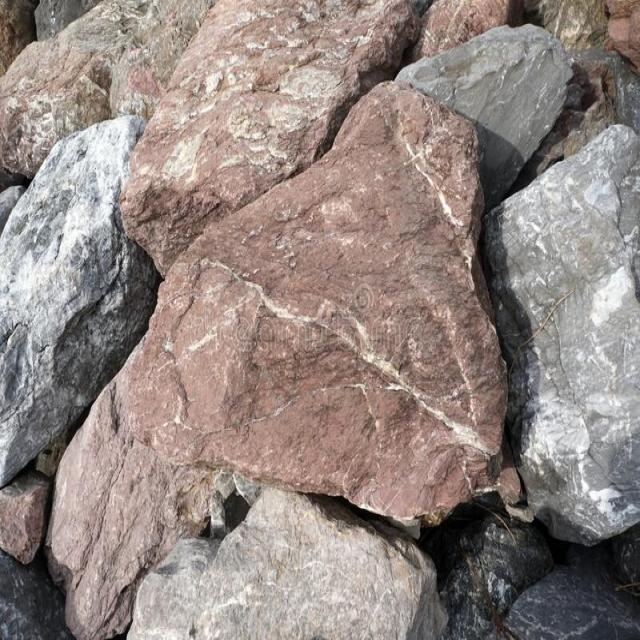Sedimentary: (1, 2, 640, 639)
